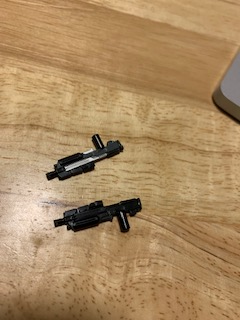rifle: (44, 133, 126, 182), (53, 198, 143, 239)
